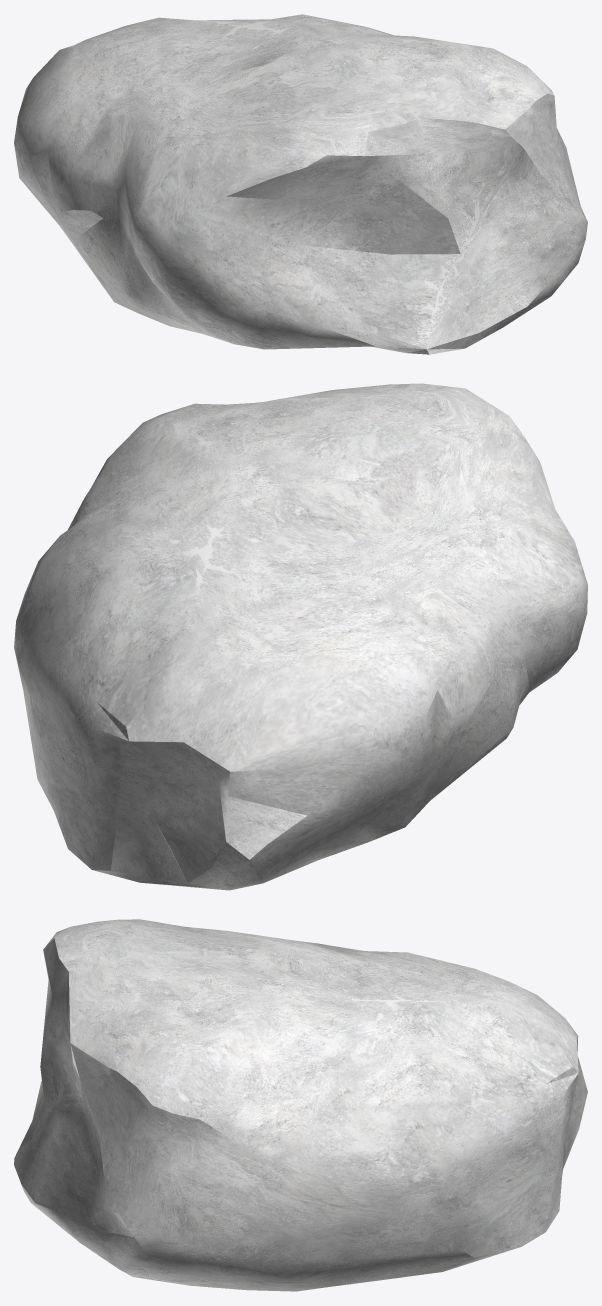
File: rock_00C_lp.fbx
3 views of the same model, one above another, from view 1: azimuth 30°, elevation 25°; view 2: azimuth 150°, elevation 25°; view 3: azimuth 270°, elevation 25° (orthographic). The views are drawn at different scales.
Visible parts, largest first — view 1: rock_00C_lp; view 2: rock_00C_lp; view 3: rock_00C_lp.
Part boxes in pixels (<box>): rock_00C_lp: <box>14,14,587,354</box>; rock_00C_lp: <box>14,383,587,890</box>; rock_00C_lp: <box>14,919,587,1291</box>.
Size of the model in its own units: 222 by 143 by 261.
